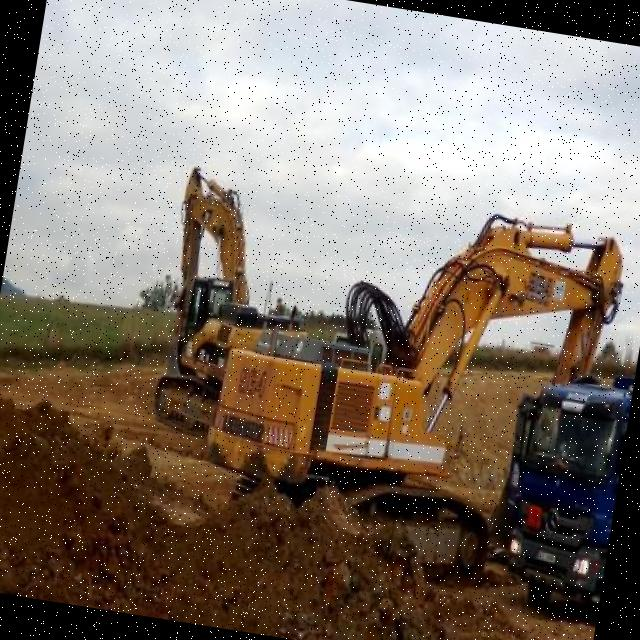Dump Truck: (484, 356, 636, 628)
Excavator: (186, 171, 632, 609), (146, 163, 334, 454)
